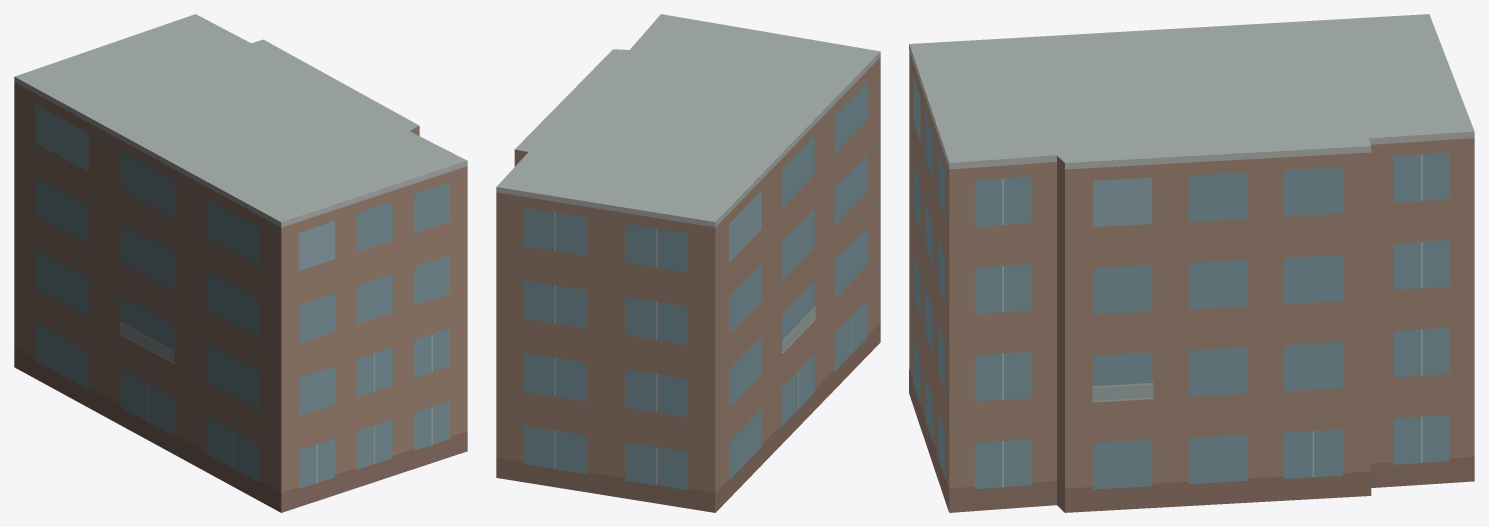
Rendered from survey-upis-32745617.glb.
The picture shows the model from 3 angles, left to right: view 1: azimuth 30°, elevation 25°; view 2: azimuth 150°, elevation 25°; view 3: azimuth 270°, elevation 25°; orthographic projection. The views are drawn at different scales.
Visible parts, largest first — view 1: survey-upis-32745617.tmp; view 2: survey-upis-32745617.tmp; view 3: survey-upis-32745617.tmp.
Boxes of the visible parts, x1=… form: survey-upis-32745617.tmp: x1=14, y1=14, x2=467, y2=512; survey-upis-32745617.tmp: x1=496, y1=14, x2=880, y2=512; survey-upis-32745617.tmp: x1=909, y1=14, x2=1474, y2=512.
Size of the model in its own units: 12.08 by 13.2 by 19.35.
